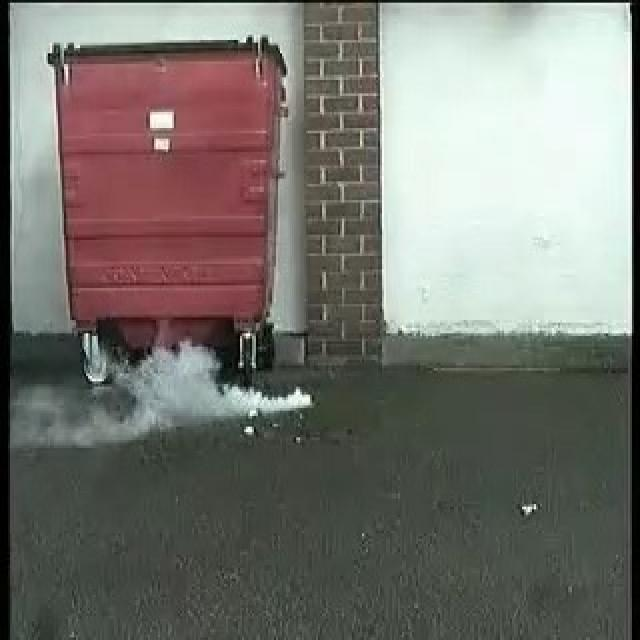smoke: (128, 355, 314, 423)
